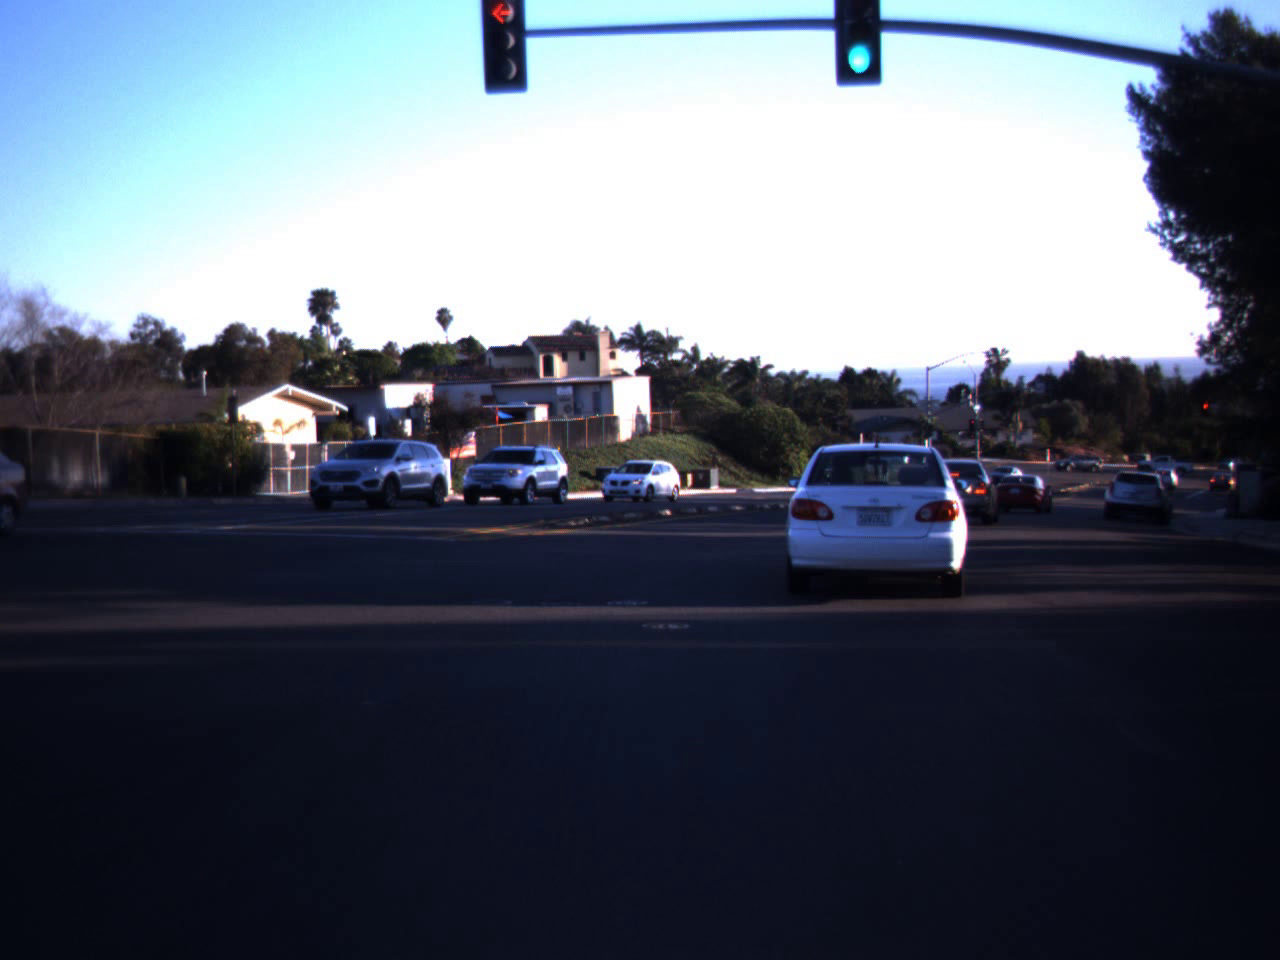go: (829, 0, 889, 86)
stop: (1200, 402, 1212, 420)
